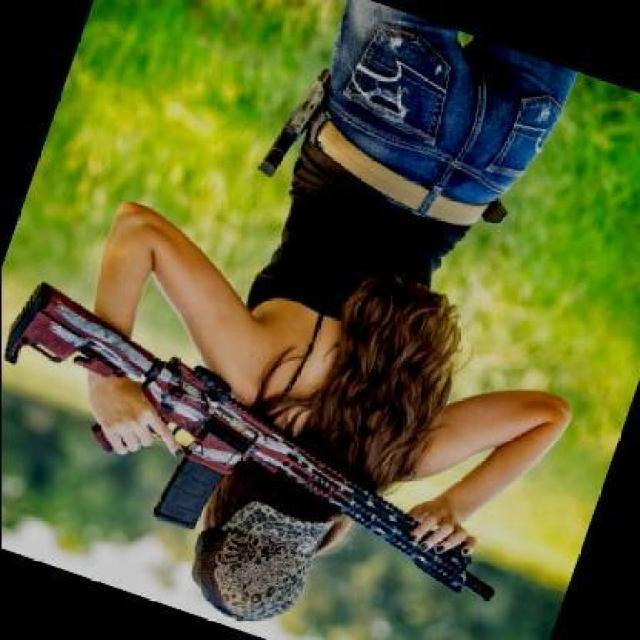rifle: (4, 280, 495, 602)
